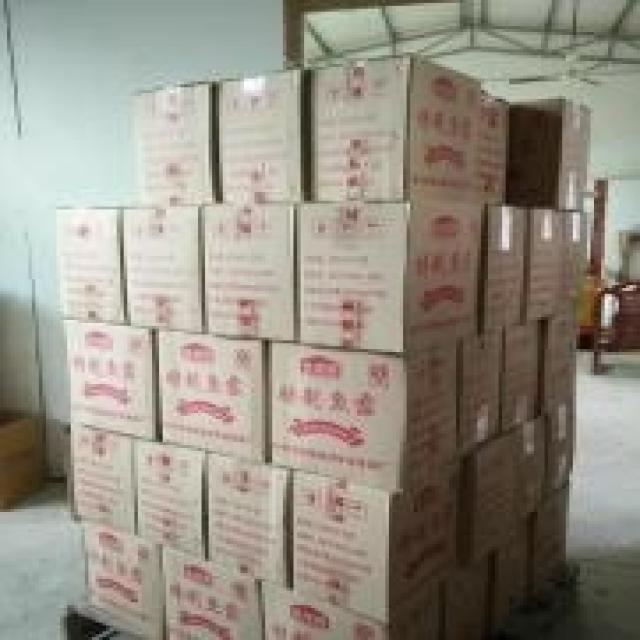box: (269, 340, 460, 492), (297, 204, 484, 355), (290, 465, 460, 625), (311, 52, 481, 204), (156, 329, 269, 465), (202, 201, 297, 340), (216, 67, 311, 201), (205, 454, 290, 588), (64, 323, 159, 442), (120, 204, 205, 335), (262, 579, 442, 640), (134, 84, 219, 207), (159, 544, 265, 640), (81, 521, 163, 640), (134, 436, 209, 559), (509, 99, 590, 209), (60, 207, 127, 323), (460, 433, 516, 564), (71, 425, 134, 532), (460, 332, 502, 460), (484, 207, 527, 332), (491, 515, 534, 637), (530, 486, 569, 602), (502, 320, 541, 433), (523, 209, 562, 320), (509, 413, 548, 524), (442, 556, 491, 640), (541, 311, 580, 413), (477, 90, 509, 204), (545, 399, 576, 492), (562, 212, 587, 314)
